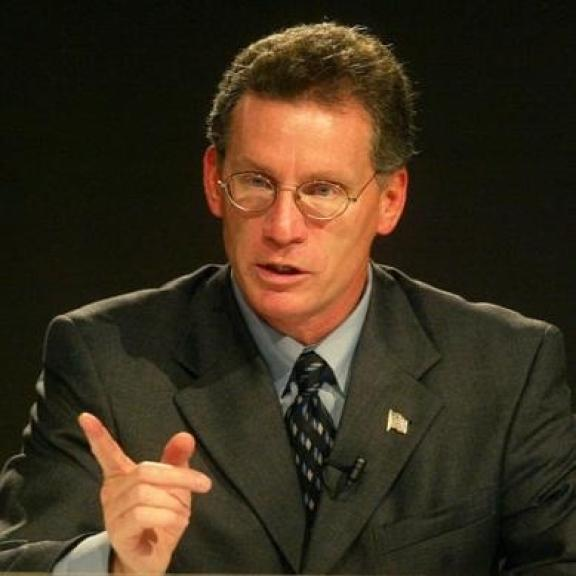face: (202, 31, 416, 323)
